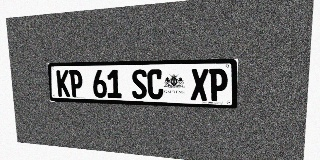1: (106, 70, 122, 98)
6: (92, 70, 107, 98)
C: (147, 69, 163, 100)
K: (56, 70, 70, 97)
P: (209, 68, 228, 101), (69, 70, 83, 97)
S: (131, 69, 147, 99)
X: (191, 69, 208, 101)
